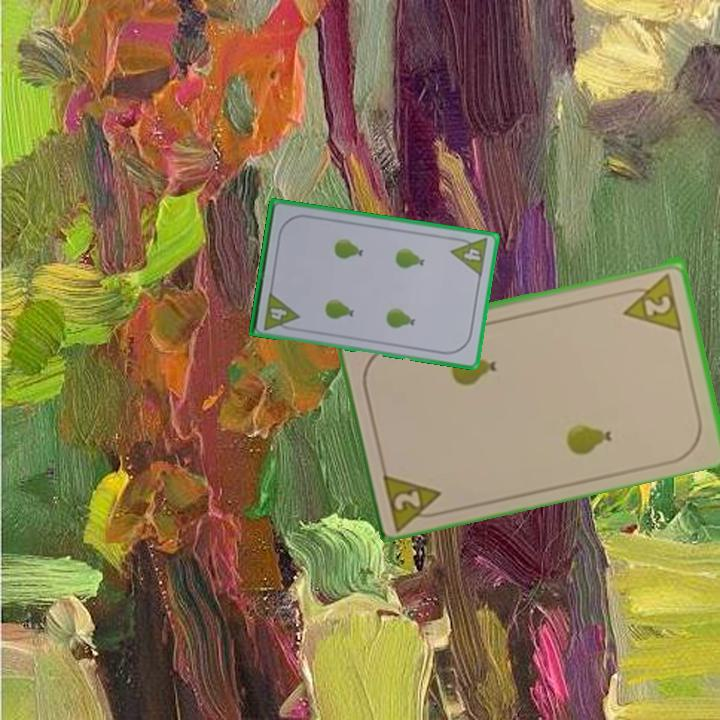2p: (379, 466, 450, 531), (617, 269, 685, 333)
4p: (448, 233, 491, 279), (260, 288, 302, 333)
